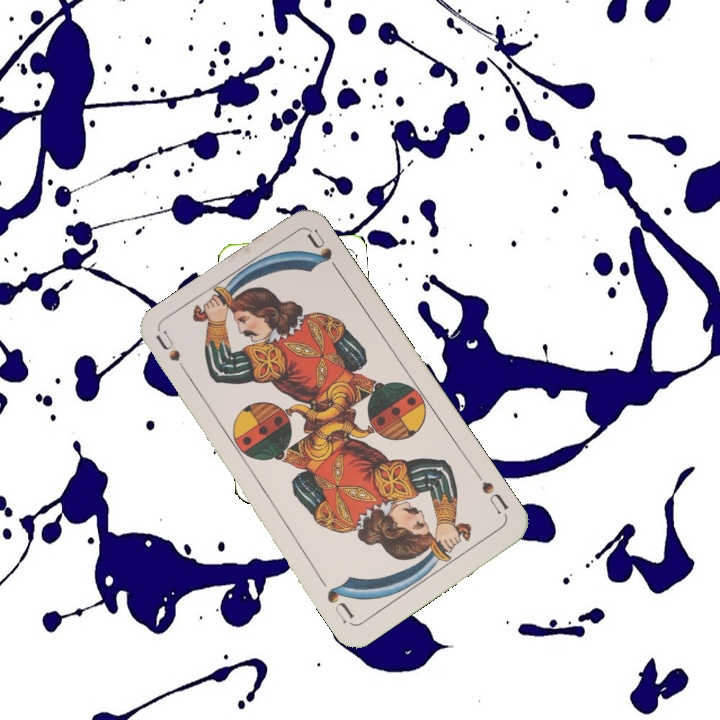SU: (153, 329, 195, 383), (471, 467, 512, 517)
